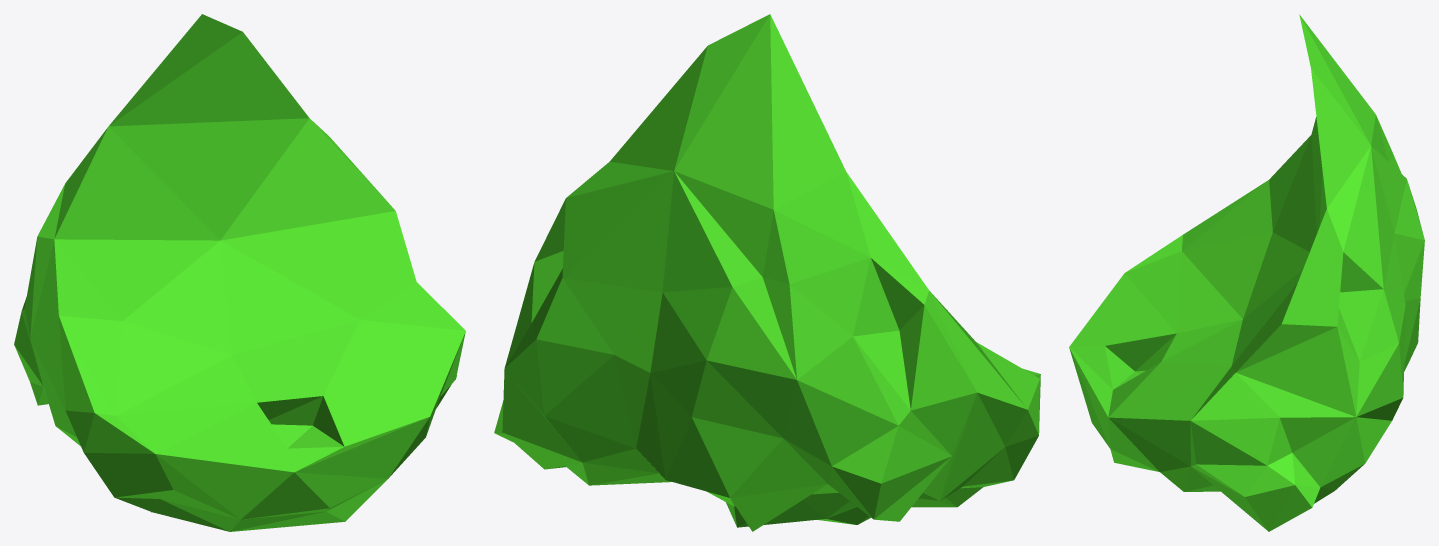
File: meteor_green_flow_shard_03.glb
3 renders of one model, left to right at view 1: azimuth 30°, elevation 25°; view 2: azimuth 150°, elevation 25°; view 3: azimuth 270°, elevation 25°, orthographic. The views are drawn at different scales.
Visible parts, largest first — view 1: Mesh1.003; view 2: Mesh1.003; view 3: Mesh1.003.
Part boxes in pixels (x1,y1,x2,y2): Mesh1.003: [14, 14, 465, 531]; Mesh1.003: [494, 14, 1040, 531]; Mesh1.003: [1069, 14, 1424, 531].
Size of the model in its own units: 1.77 by 1.89 by 1.41.
